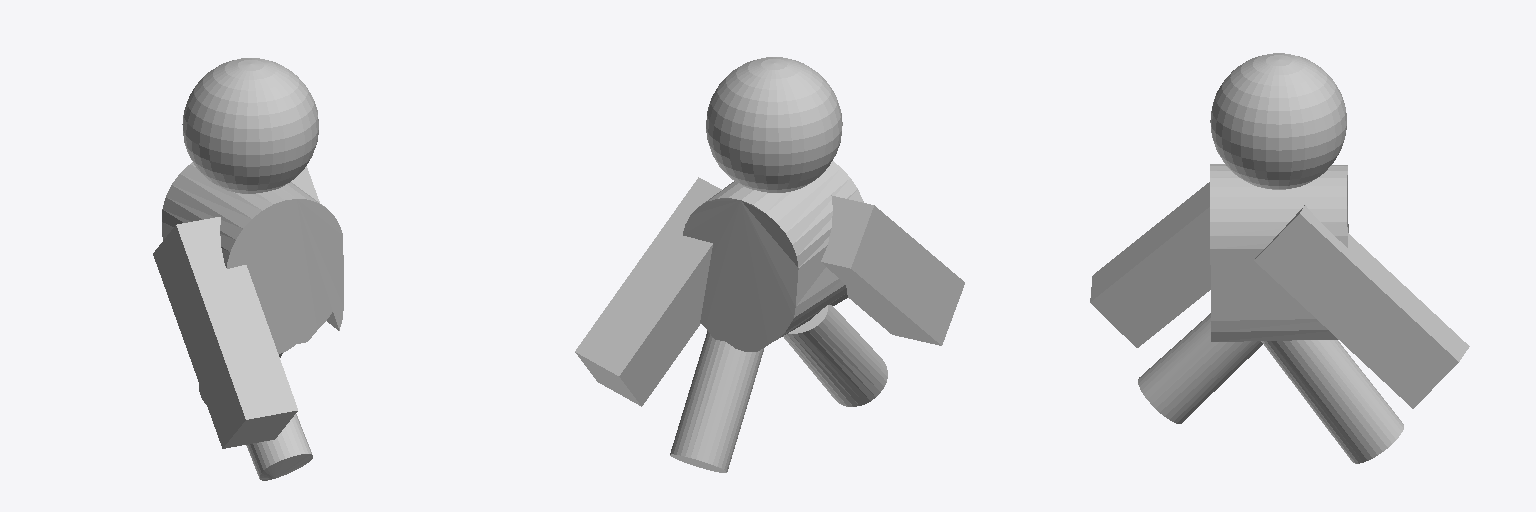
Rendered from Figurine119.obj.
3 views of the same model, side by side, from view 1: azimuth 30°, elevation 25°; view 2: azimuth 150°, elevation 25°; view 3: azimuth 270°, elevation 25° (orthographic).
Visible parts, largest first — view 1: Cylinder; view 2: Cylinder; view 3: Cylinder.
Boxes of the visible parts, box(x1,y1,x2,y2) form: Cylinder: box(153, 58, 343, 480); Cylinder: box(575, 57, 964, 472); Cylinder: box(1090, 53, 1469, 463).
Bounding box in the file's own units: 3.49 × 6.23 × 5.54.